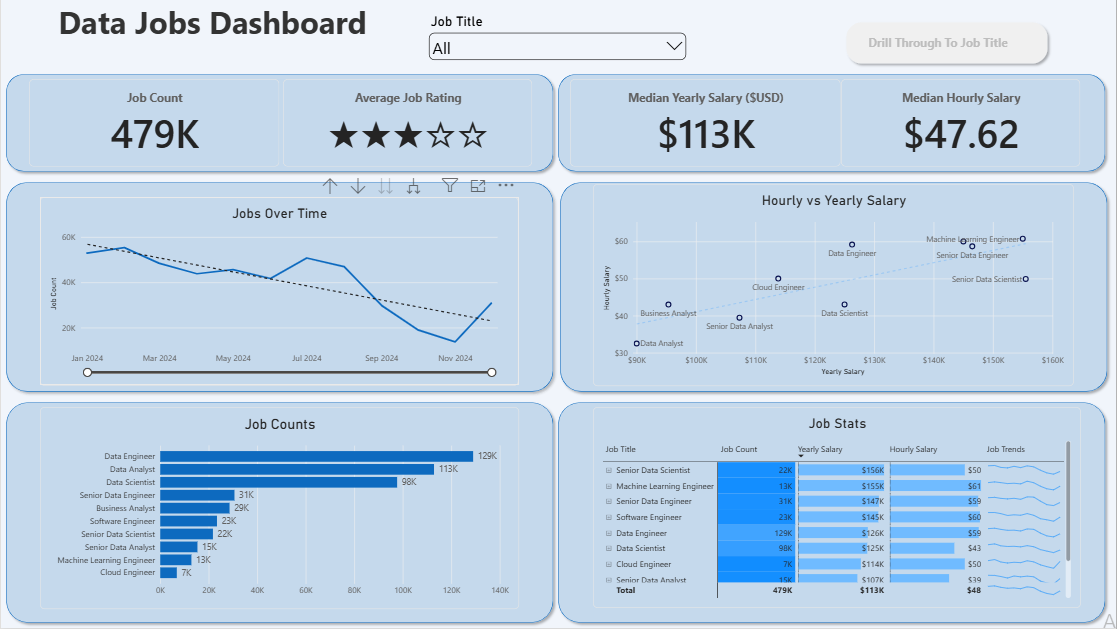

The dashboard page shown, as its layout file describes it:
{"tool":"powerbi","page":{"name":"Data Jobs Dashboard","canvas":[1920,1080],"ordinal":0},"visuals":[{"type":"shape","box":[0,118.6,960,185.5],"z":0,"group":"g1"},{"type":"group","id":"g1","title":"Background","box":[0,118.6,1914.3,961.9],"z":500},{"type":"textbox","box":[9.6,0,707.6,97.5],"z":1000},{"type":"shape","box":[950.4,118.6,960,185.5],"z":1000,"group":"g1"},{"type":"slicer","fields":{"Values":["job_postings_flat.job_title_short"]},"box":[732.4,22.9,453.2,281.1],"z":2000},{"type":"shape","box":[0,304.1,960,378.6],"z":2000,"group":"g1"},{"type":"cardVisual","fields":{"Data":["Median(job_postings_flat.salary_hour_avg)"]},"box":[1446.4,135.3,412.9,151.6],"z":3000},{"type":"shape","box":[954.3,304.1,960,378.6],"z":3000,"group":"g1"},{"type":"cardVisual","fields":{"Data":["Median(job_postings_flat.salary_year_avg)"]},"box":[979.8,135.3,466.6,151.6],"z":4000},{"type":"shape","box":[0,682.7,960,397.8],"z":4000,"group":"g1"},{"type":"cardVisual","fields":{"Data":["job_postings_flat.Salary Star Rating"]},"box":[485.2,135.3,429.3,151.6],"z":5000},{"type":"shape","box":[950.4,682.7,960,397.8],"z":5000,"group":"g1"},{"type":"cardVisual","fields":{"Data":["CountNonNull(job_postings_flat.job_title_short)"]},"box":[49,135.3,431.6,151.6],"z":6000},{"type":"lineChart","title":"Jobs Over Time","fields":{"Category":["job_postings_flat.job_posted_date.Variation.Date Hierarchy.Year","job_postings_flat.job_posted_date.Variation.Date Hierarchy.Quarter","job_postings_flat.job_posted_date.Variation.Date Hierarchy.Month","job_postings_flat.job_posted_date.Variation.Date Hierarchy.Day"],"Y":["CountNonNull(job_postings_flat.job_title_short)"]},"box":[67.4,338.8,824.3,325],"z":7000},{"type":"barChart","title":"Job Counts","fields":{"Category":["job_postings_flat.job_title_short"],"Y":["CountNonNull(job_postings_flat.job_title_short)"]},"box":[67.2,700.8,824.8,347.8],"z":8000},{"type":"scatterChart","title":"Hourly vs Yearly Salary","fields":{"Series":["job_postings_flat.job_title_short"],"X":["Median(job_postings_flat.salary_year_avg)"],"Y":["Median(job_postings_flat.salary_hour_avg)"]},"box":[1019.5,317.3,828.2,347.6],"z":9000},{"type":"pivotTable","title":"Job Stats","fields":{"Rows":["job_postings_flat.job_title_short","job_postings_flat.job_posted_date.Variation.Date Hierarchy.Quarter"],"Values":["CountNonNull(job_postings_flat.job_title_short)","Median(job_postings_flat.salary_year_avg)","Median(job_postings_flat.salary_hour_avg)","SparklineData(CountNonNull(job_postings_flat.job_title_short)_[job_postings_flat.job_posted_date.Variation.Date Hierarch"]},"box":[1019.4,700.8,840.3,346.1],"z":10000},{"type":"actionButton","box":[1446.4,29.7,364.6,89.2],"z":11000}]}

Visuals, with their boxes in screenshot pixels (x1, y1, x2, y2), scaled from the page's 1920x1080 canvas onto the 1117x629 screenshot:
shape: (0,69,558,177)
"Background" group: (0,69,1114,628)
textbox: (6,0,417,57)
shape: (553,69,1111,177)
slicer - job_postings_flat.job_title_short: (426,13,690,177)
shape: (0,177,558,398)
cardVisual - Median(job_postings_flat.salary_hour_avg): (841,79,1082,167)
shape: (555,177,1114,398)
cardVisual - Median(job_postings_flat.salary_year_avg): (570,79,841,167)
shape: (0,398,558,628)
cardVisual - job_postings_flat.Salary Star Rating: (282,79,532,167)
shape: (553,398,1111,628)
cardVisual - CountNonNull(job_postings_flat.job_title_short): (29,79,280,167)
"Jobs Over Time" lineChart: (39,197,519,387)
"Job Counts" barChart: (39,408,519,611)
"Hourly vs Yearly Salary" scatterChart: (593,185,1075,387)
"Job Stats" pivotTable: (593,408,1082,610)
actionButton: (841,17,1054,69)
